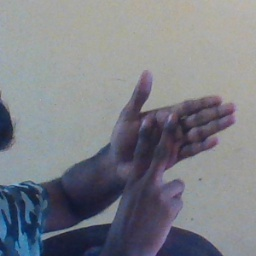N: (94, 67, 239, 232)
